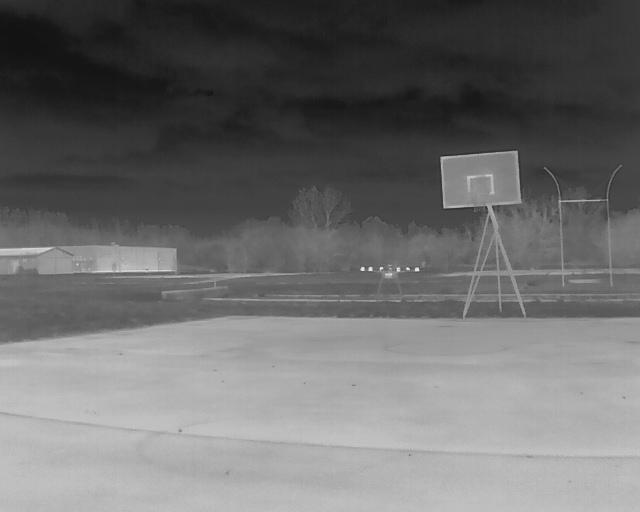drone: (354, 262, 422, 306)
